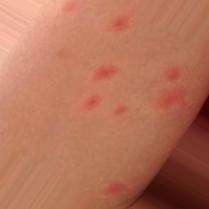Fleas: (154, 86, 188, 110), (102, 180, 138, 200), (78, 90, 101, 112), (107, 14, 128, 32), (95, 65, 116, 79), (164, 68, 179, 79), (115, 105, 127, 116)
